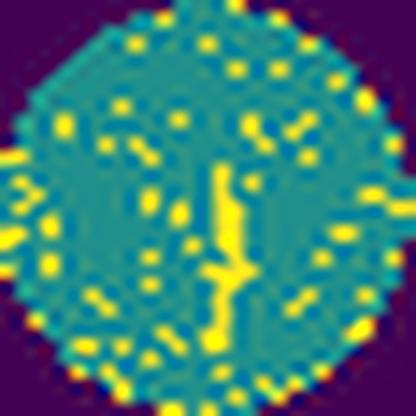Scratch: (195, 157, 263, 359)
